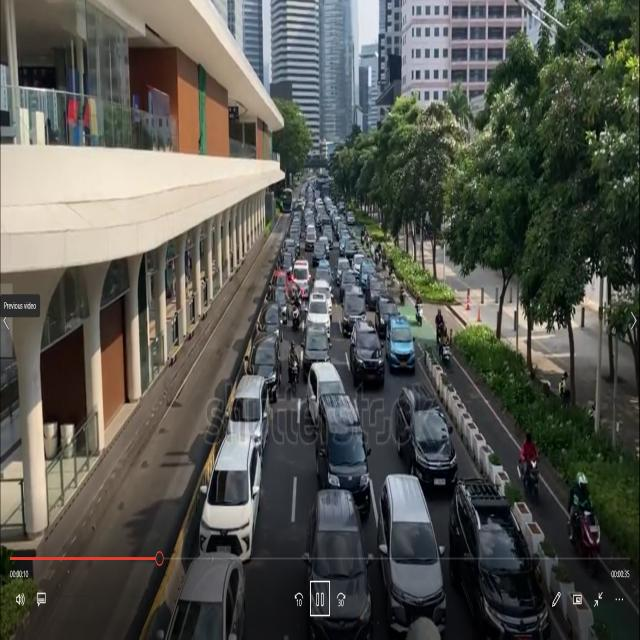Ambulance: (294, 254, 309, 301)
